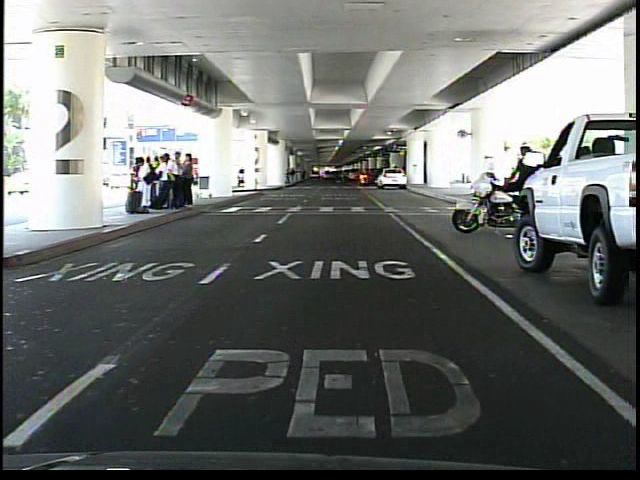person: (504, 136, 544, 235)
